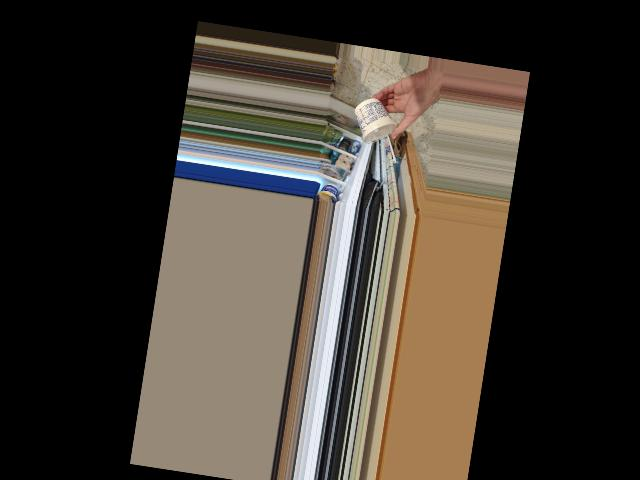cotage: (355, 94, 404, 145)
